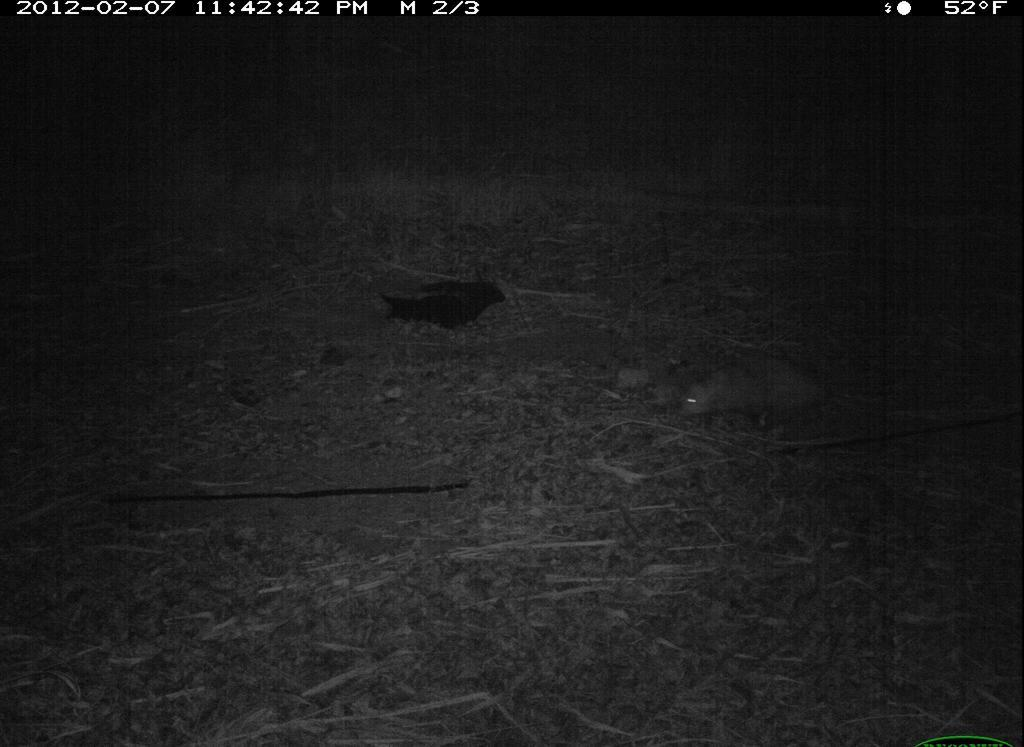opossum: (658, 336, 881, 433)
